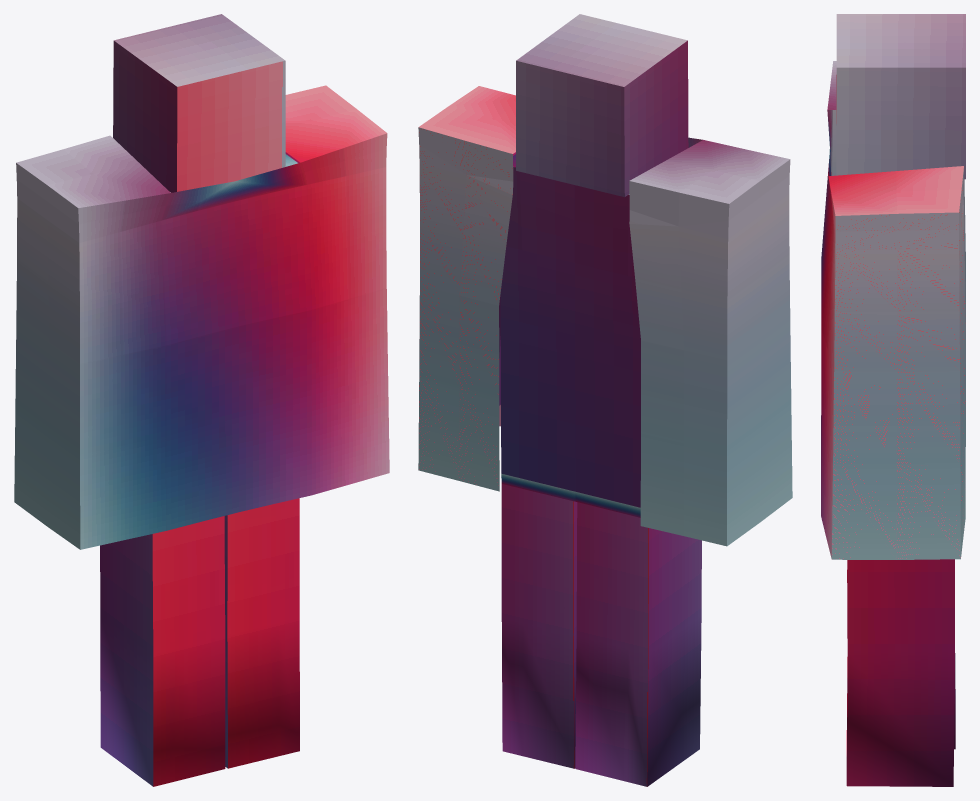
The model's file is marine_admiral.obj.
The picture shows the model from 3 angles, left to right: view 1: azimuth 30°, elevation 25°; view 2: azimuth 150°, elevation 25°; view 3: azimuth 270°, elevation 25°; orthographic projection.
Visible parts, largest first — view 1: cloak_Plane, body_Cube.002, head_Cube.003; view 2: body_Cube.002, cloak_Plane, head_Cube.003; view 3: cloak_Plane, body_Cube.002, head_Cube.003.
Boxes of the visible parts, x1,y1,x2,y2 form: cloak_Plane: (14, 85, 389, 549); body_Cube.002: (100, 154, 299, 786); head_Cube.003: (113, 14, 285, 192); body_Cube.002: (500, 154, 701, 786); cloak_Plane: (418, 86, 792, 546); head_Cube.003: (516, 14, 688, 197); cloak_Plane: (821, 61, 965, 559); body_Cube.002: (846, 559, 955, 786); head_Cube.003: (836, 14, 965, 179).
Size of the model in its own units: 9.94 by 21.35 by 3.95.
